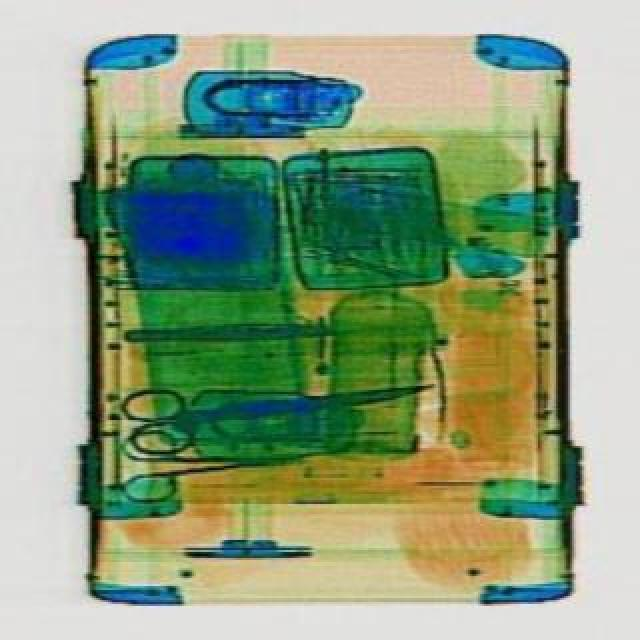pliers: (124, 348, 446, 456), (126, 422, 294, 500)
